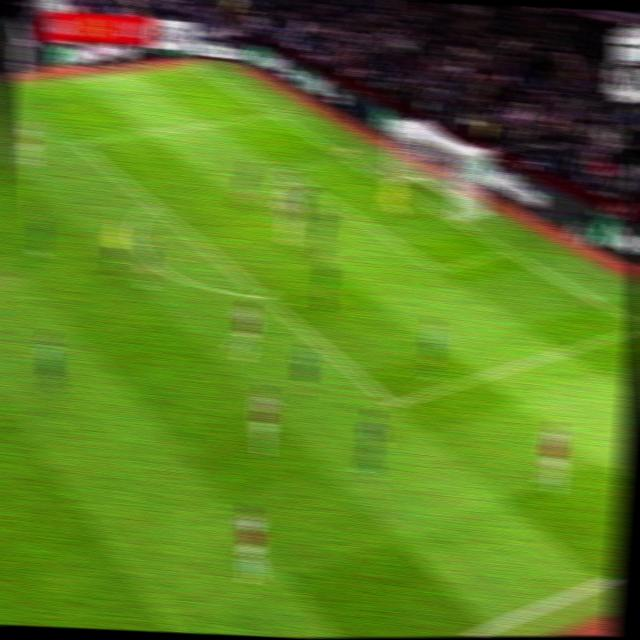bigarea_bottom_inner: (379, 391, 406, 416)
bigarea_top_inner: (66, 131, 89, 153)
bigarea_top_outter: (260, 105, 283, 121)
bottom_arc_area_intersection: (250, 285, 275, 307)
corner: (180, 60, 207, 76)
smallarea_bottom_inner: (424, 255, 450, 282)
smallarea_bottom_outter: (493, 240, 519, 259)
smallarea_top_inner: (273, 159, 296, 177)
smallarea_top_outter: (331, 147, 357, 164)
top_arc_area_intersection: (139, 192, 162, 211)
